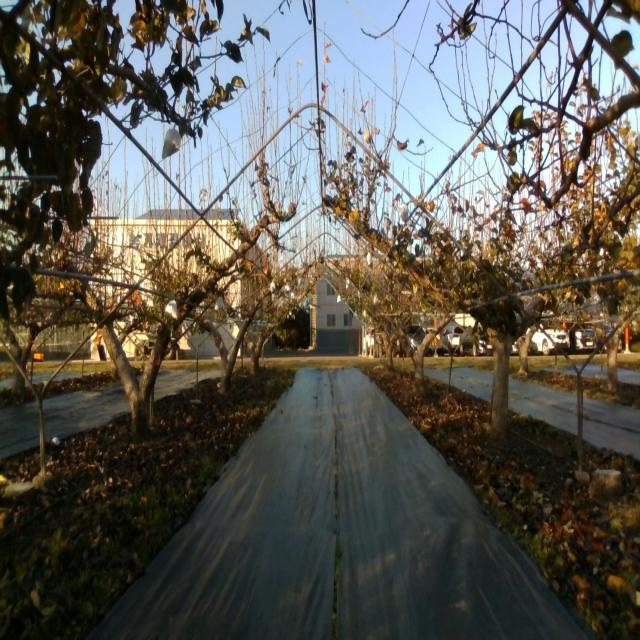pearbags: (162, 129, 181, 160), (164, 299, 178, 323), (398, 203, 409, 223)
